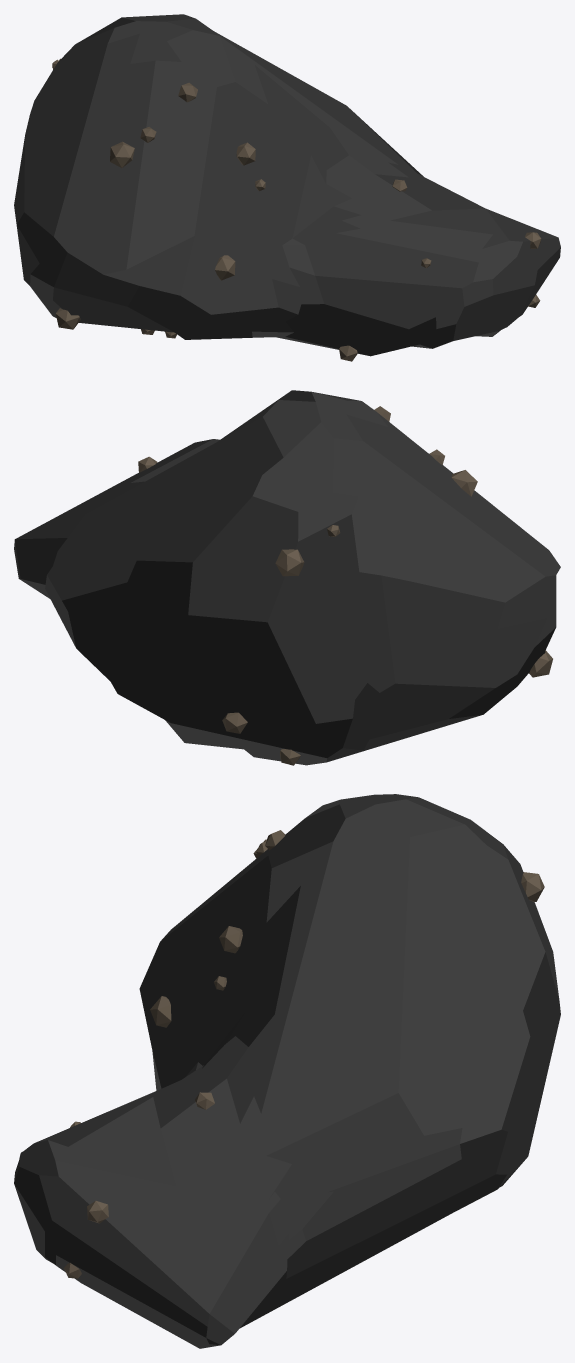
The model's file is Lowpoly_IronRock03.fbx.
3 views of the same model, one above another, from view 1: azimuth 30°, elevation 25°; view 2: azimuth 150°, elevation 25°; view 3: azimuth 270°, elevation 25° (orthographic). The views are drawn at different scales.
Parts seen in each view (by area): view 1: IronRock03; view 2: IronRock03; view 3: IronRock03.
Boxes of the visible parts, x1,y1,x2,y2 form: IronRock03: [14, 14, 560, 361]; IronRock03: [14, 390, 560, 765]; IronRock03: [14, 794, 560, 1348].
Size of the model in its own units: 1077 by 650 by 828.
